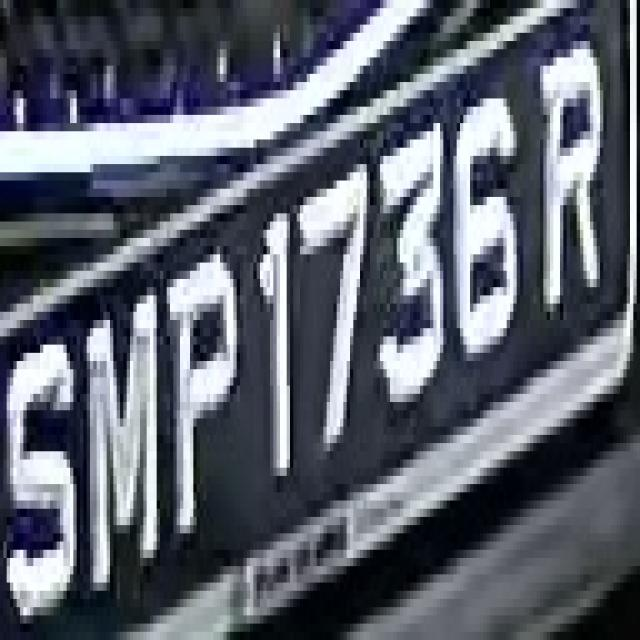1: (243, 181, 310, 508)
3: (370, 131, 447, 427)
6: (447, 82, 523, 402)
7: (293, 164, 377, 443)
M: (83, 279, 167, 591)
P: (166, 246, 246, 558)
R: (537, 58, 610, 344)
